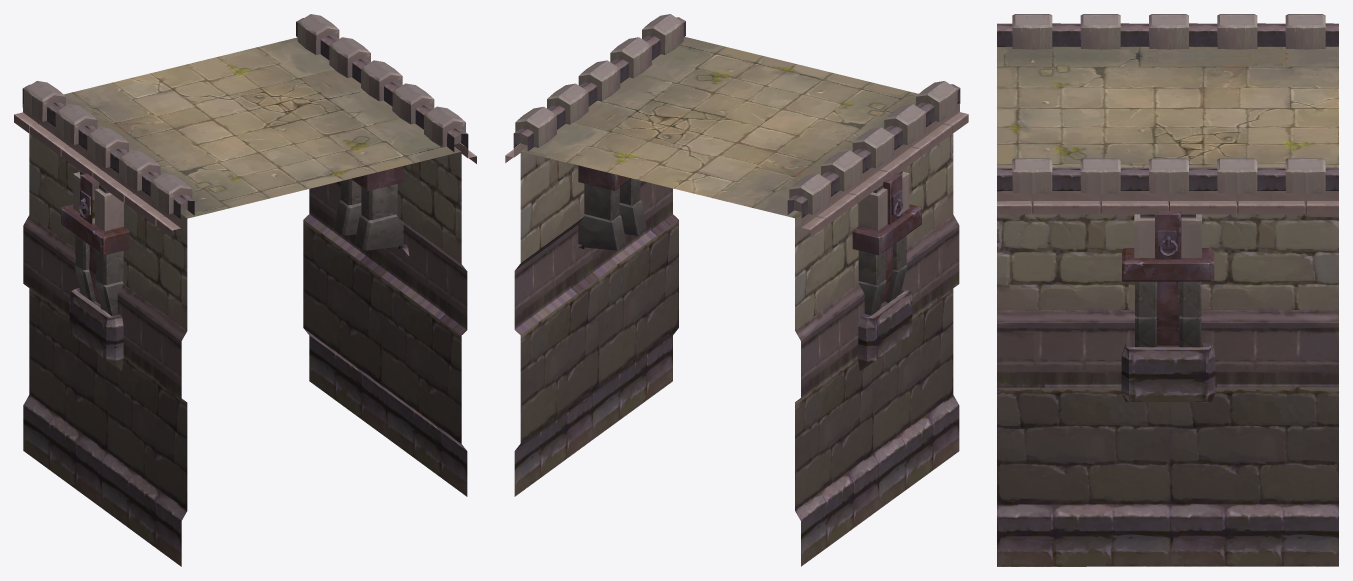
Rendered from pingtai10_02.FBX.
3 renders of one model, left to right at view 1: azimuth 30°, elevation 25°; view 2: azimuth 150°, elevation 25°; view 3: azimuth 270°, elevation 25°, orthographic. The views are drawn at different scales.
Visible parts, largest first — view 1: pingtai10_02; view 2: pingtai10_02; view 3: pingtai10_02.
Part boxes in pixels (<box>): pingtai10_02: <box>14,14,476,566</box>; pingtai10_02: <box>505,14,968,566</box>; pingtai10_02: <box>997,14,1338,566</box>.
Size of the model in its own units: 1203 by 1306 by 1000.
Materials: 3 (3 with a texture image).
